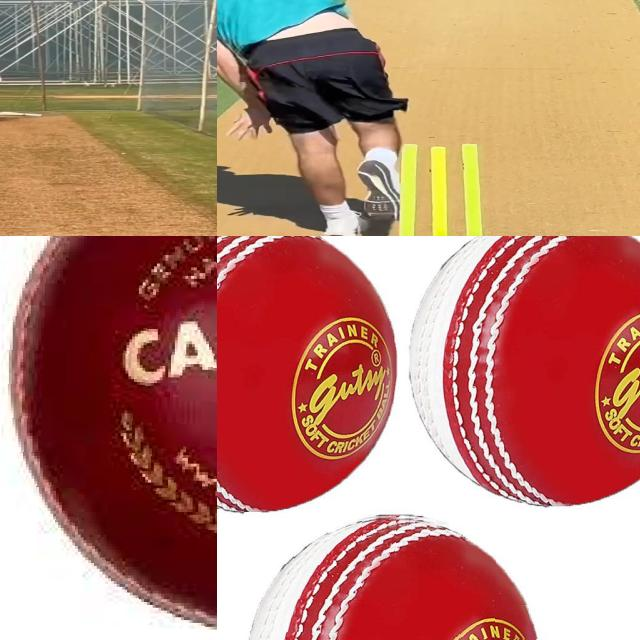Cricket ball: (1, 236, 217, 636), (402, 236, 640, 512), (217, 236, 402, 513), (243, 512, 553, 640)
Stumps: (395, 142, 492, 236)
